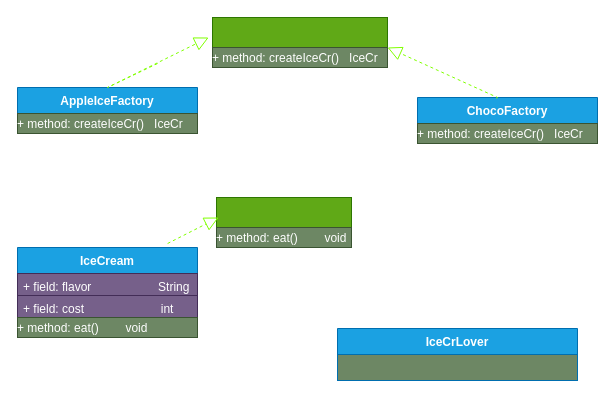
The diagram is 615 pixels wide and 401 high, and some of its shapes have lost their labels. Here are the shapes that lost their labels. From the top down, the centre of each, then its label:
At point 300,32: "«interface» IceFactory".
At point 284,212: "«interface» IceCr".
At point 457,367: "+ method: enjoyIceCream(IceFactory) void".
